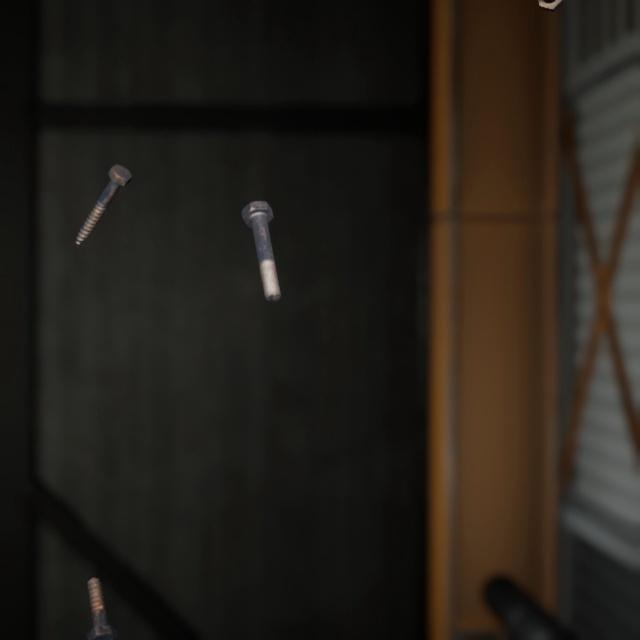bolt: (70, 145, 136, 234), (237, 180, 285, 289), (82, 549, 122, 628)
